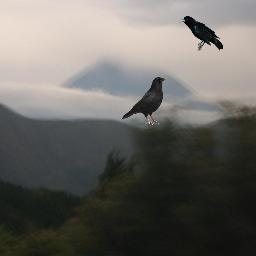Crow: (121, 76, 166, 125), (179, 16, 223, 51)
